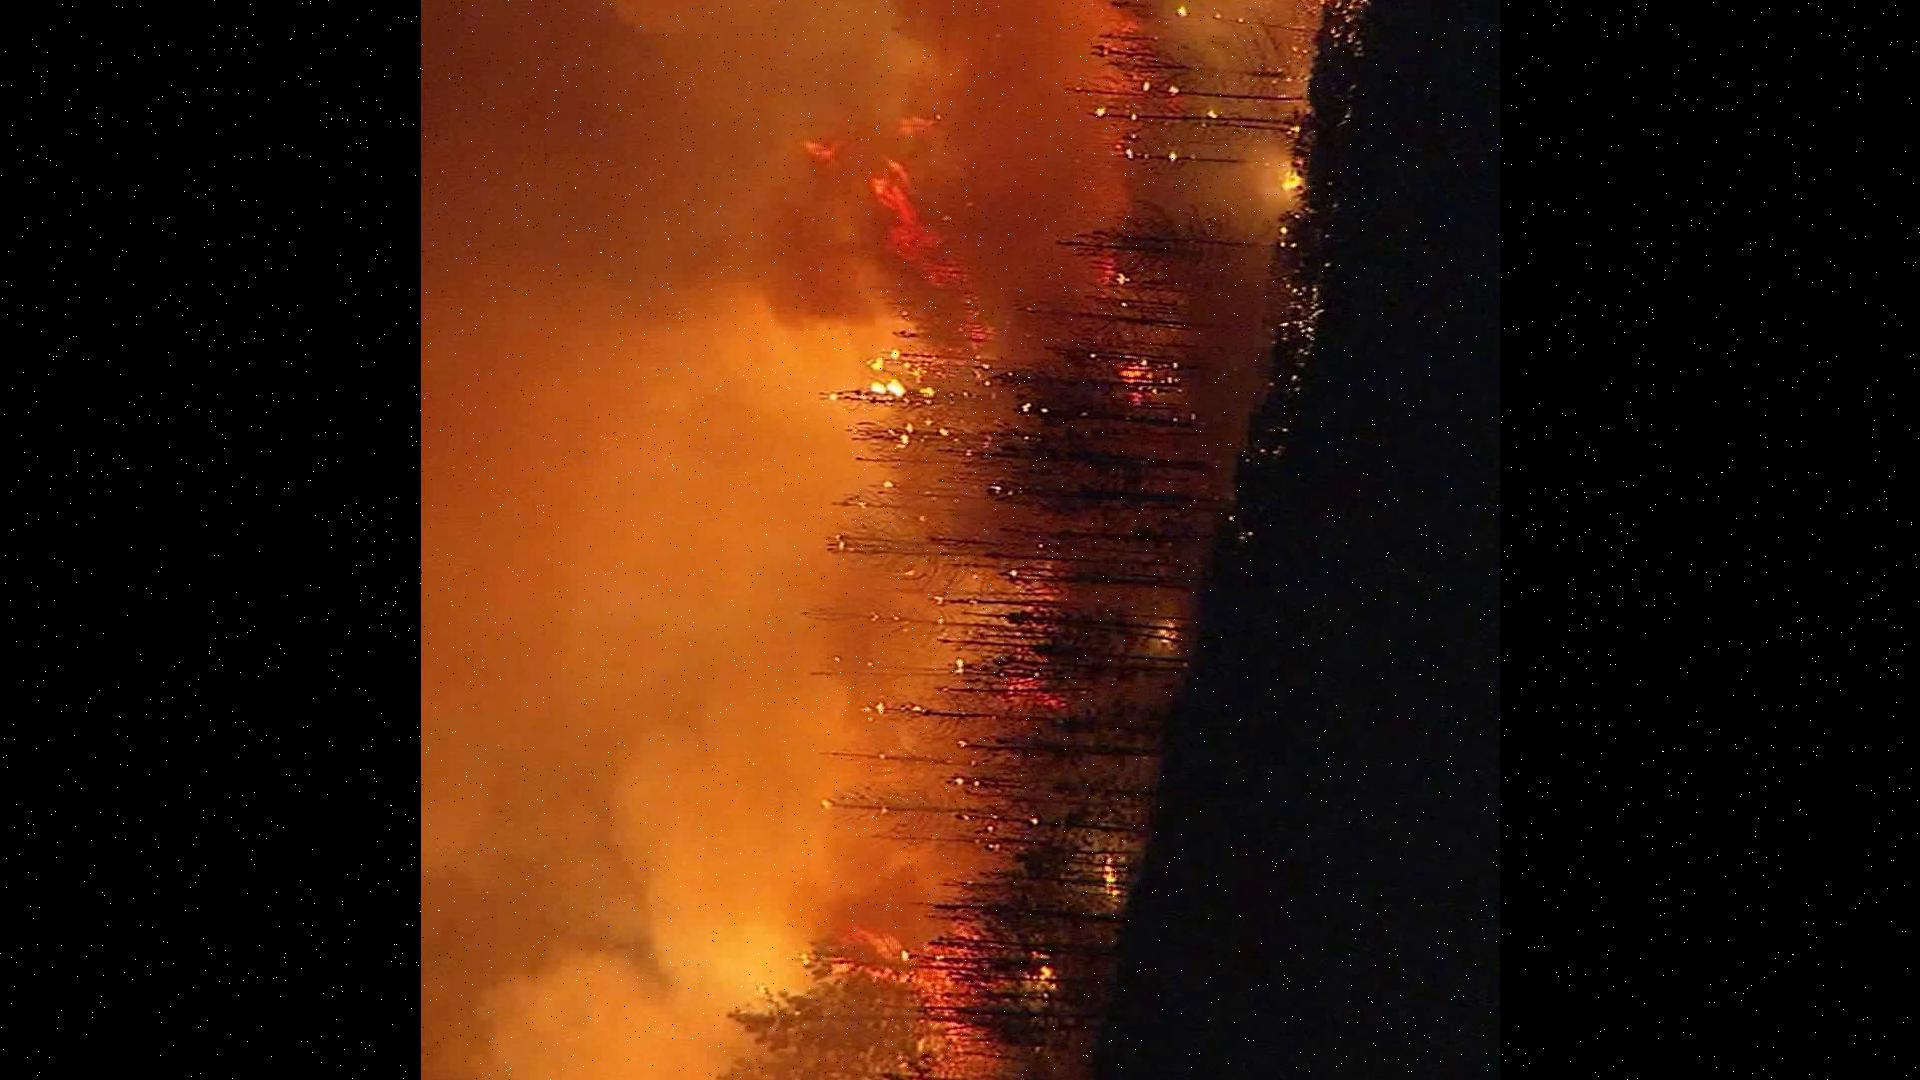fire: (676, 0, 1188, 1080), (1208, 0, 1465, 256)
